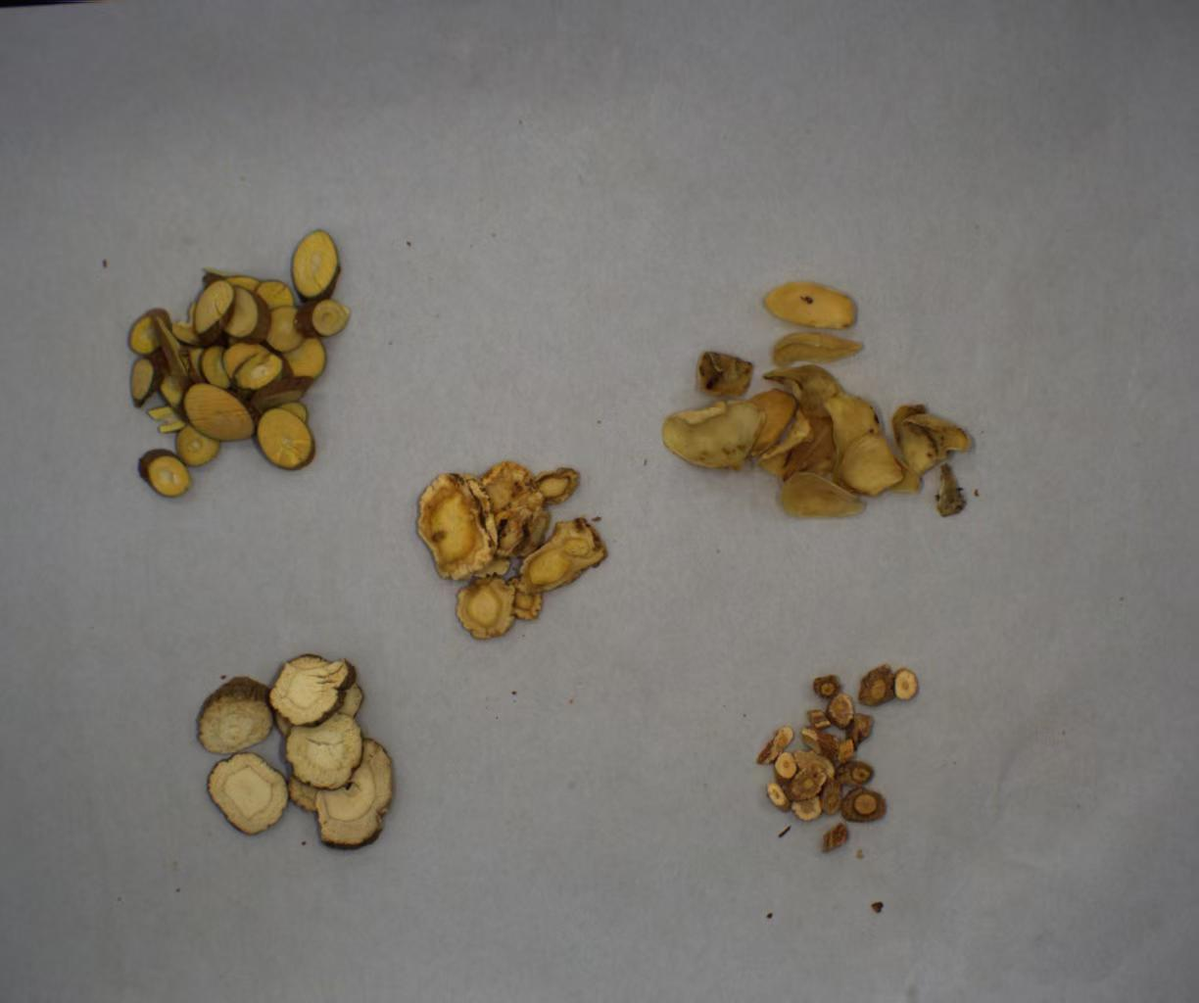baihe: (654, 281, 976, 530)
baizhi: (175, 645, 415, 858)
banlangen: (741, 659, 946, 851)
jiegeng: (397, 448, 632, 645)
sangzhi: (93, 228, 385, 512)
